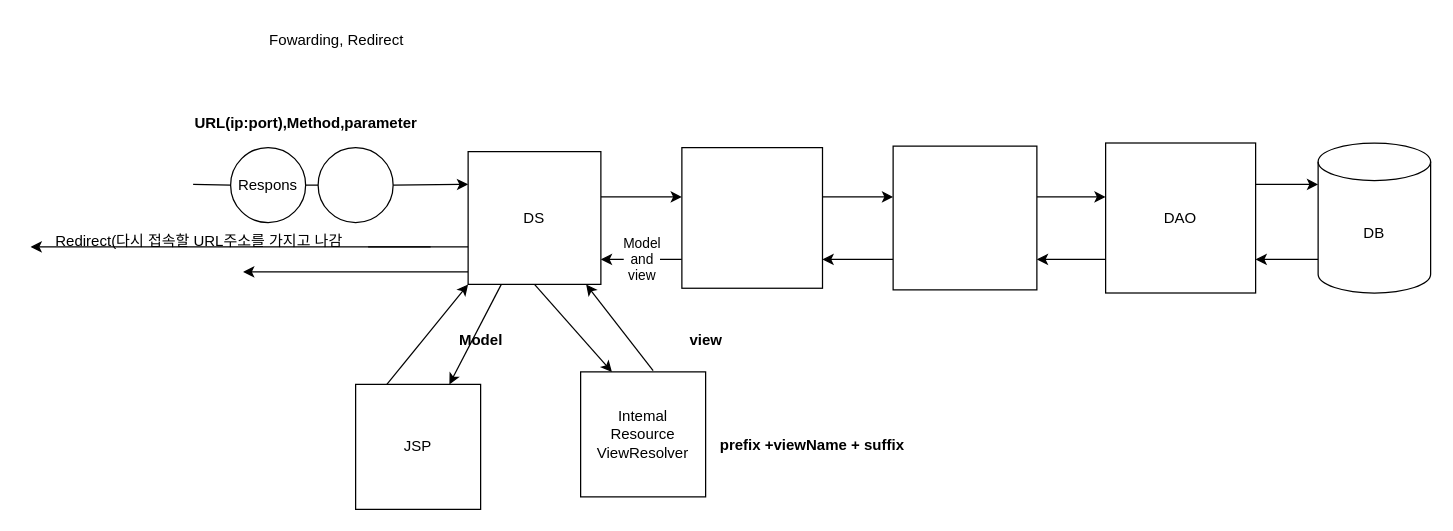
This 1453x531 diagram has some shape labels left out. Each missing label, with the box of its shape:
Controller: (681, 146, 822, 288)
Request: (317, 146, 393, 223)
Service: (892, 145, 1037, 290)
